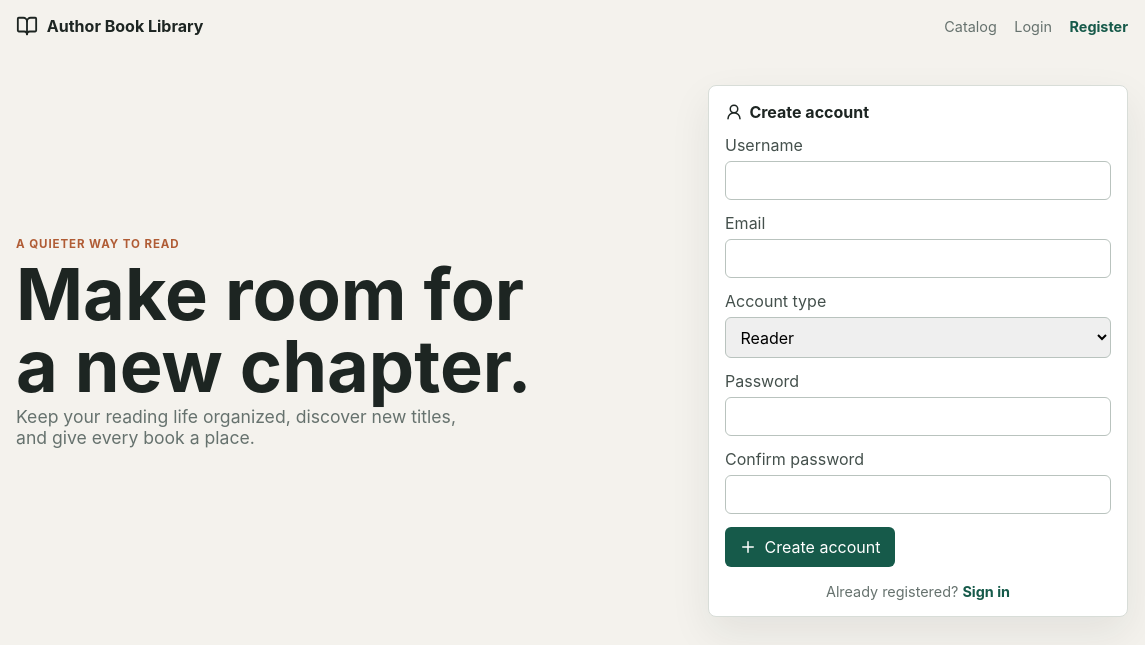
routed library experience › submits valid registration data
The width and height of the screenshot is (1145, 645).
In the field labelled "Username": (918, 181) [725,161,1111,200], type "reader"
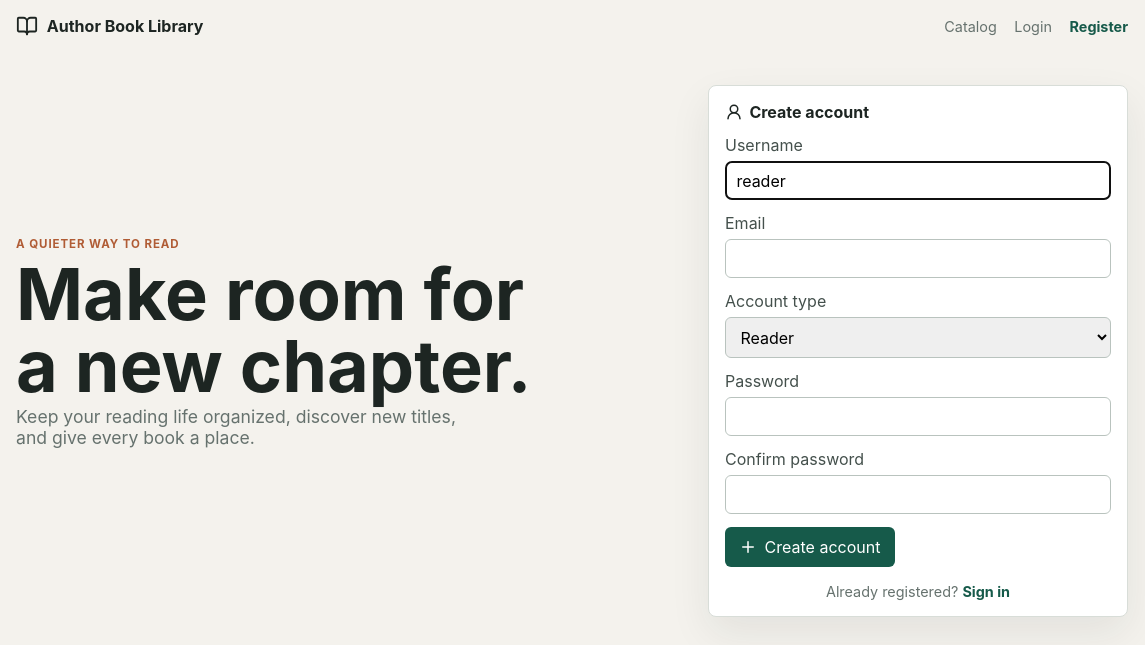
In the field labelled "Email": (918, 259) [725,239,1111,278], type "reader@example.com"
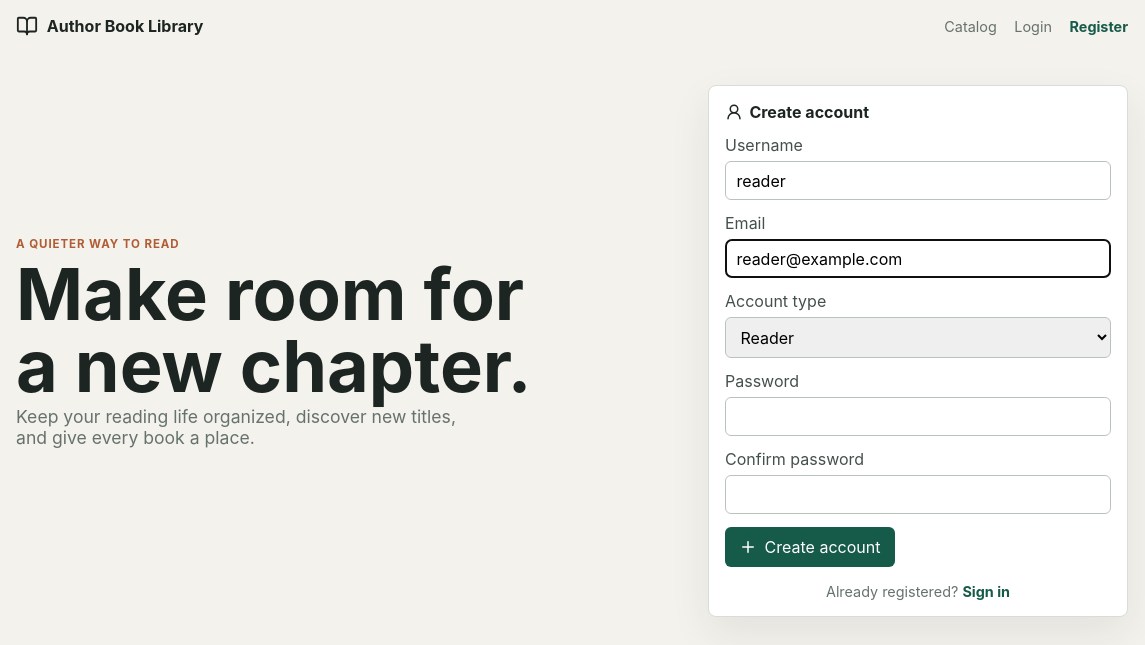
In the password field labelled "Password": (918, 417) [725,397,1111,436], type "StrongPass123!"
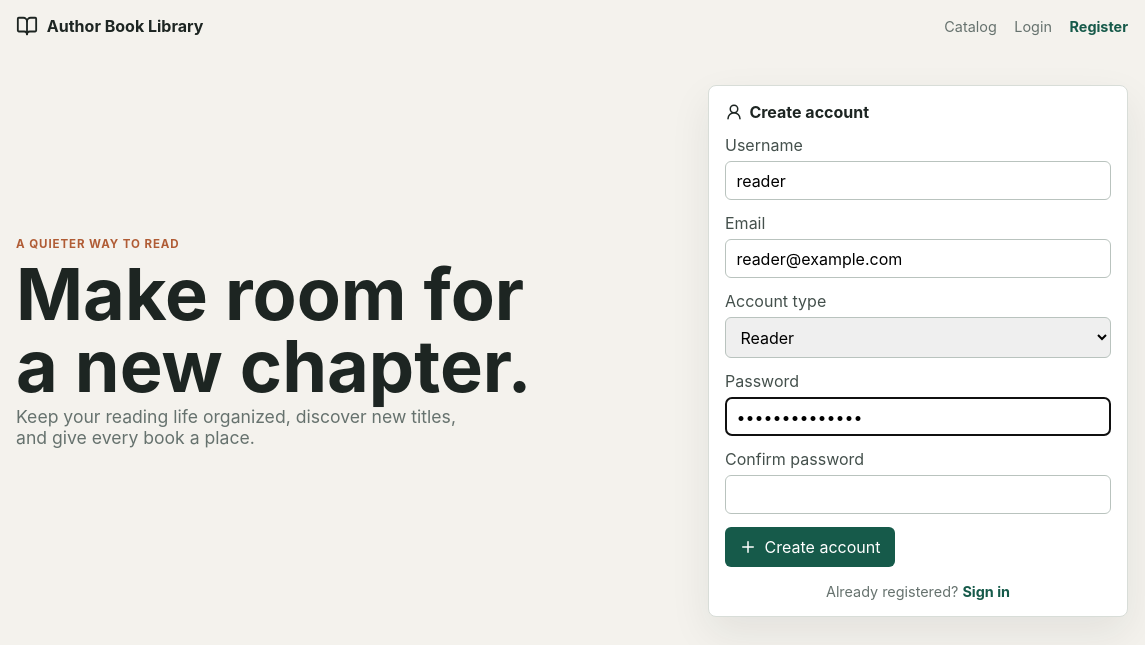
In the password field labelled "Confirm password": (918, 495) [725,475,1111,514], type "StrongPass123!"
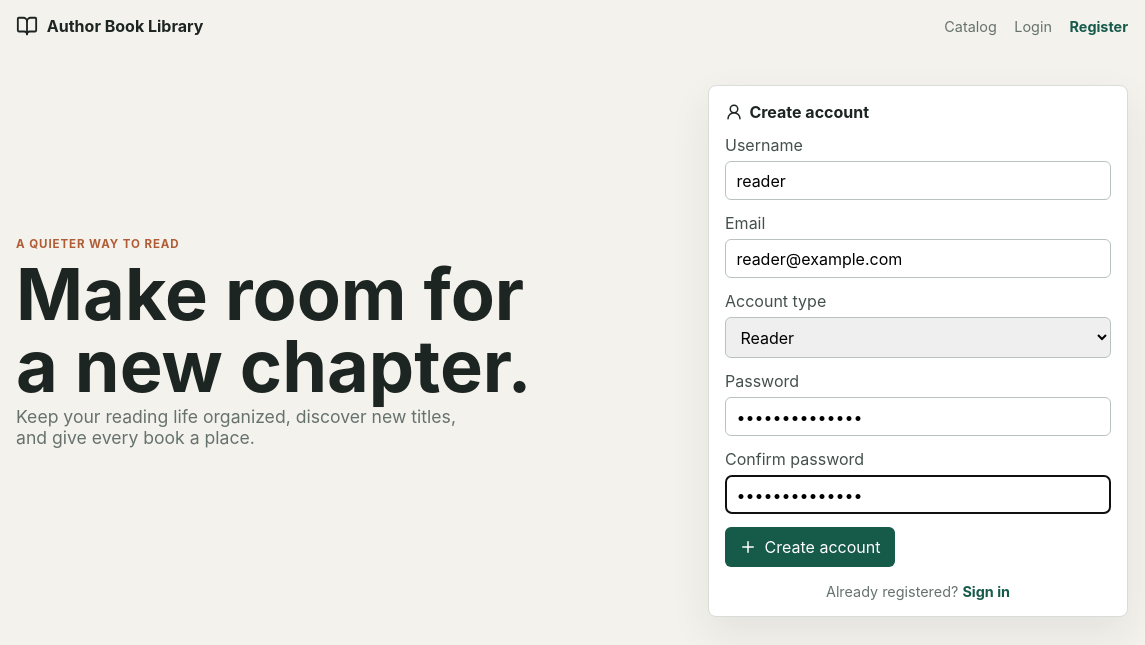
Click the button "Create account": (810, 547) [725,527,895,567]
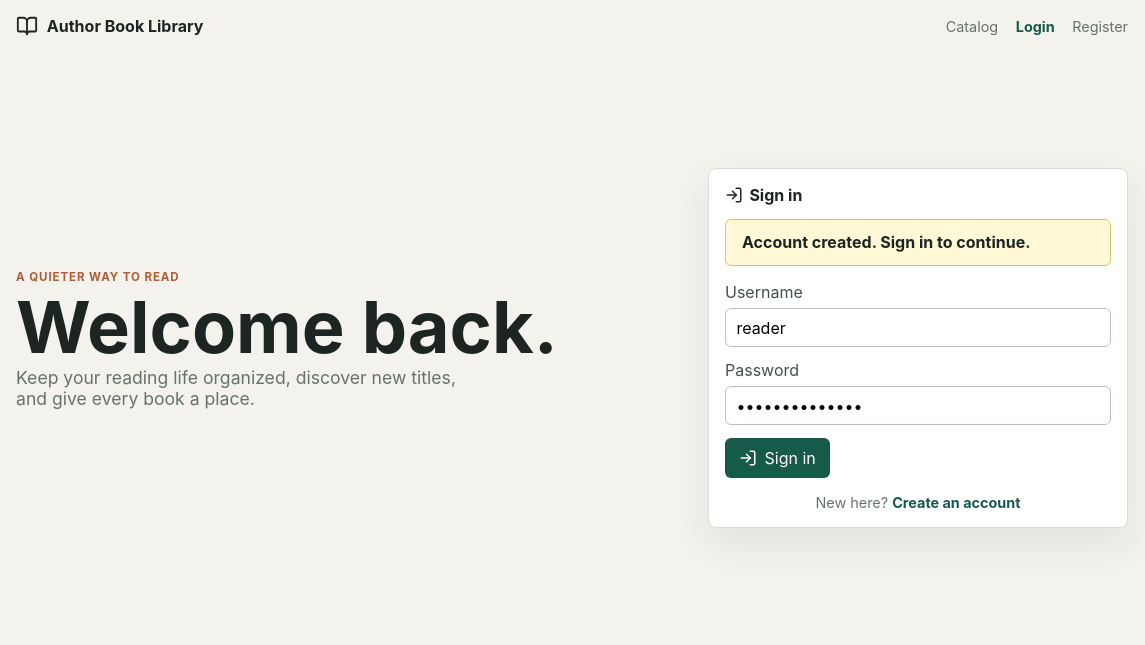
Expected: the heading "Sign in" is shown, [725,185,802,205]
